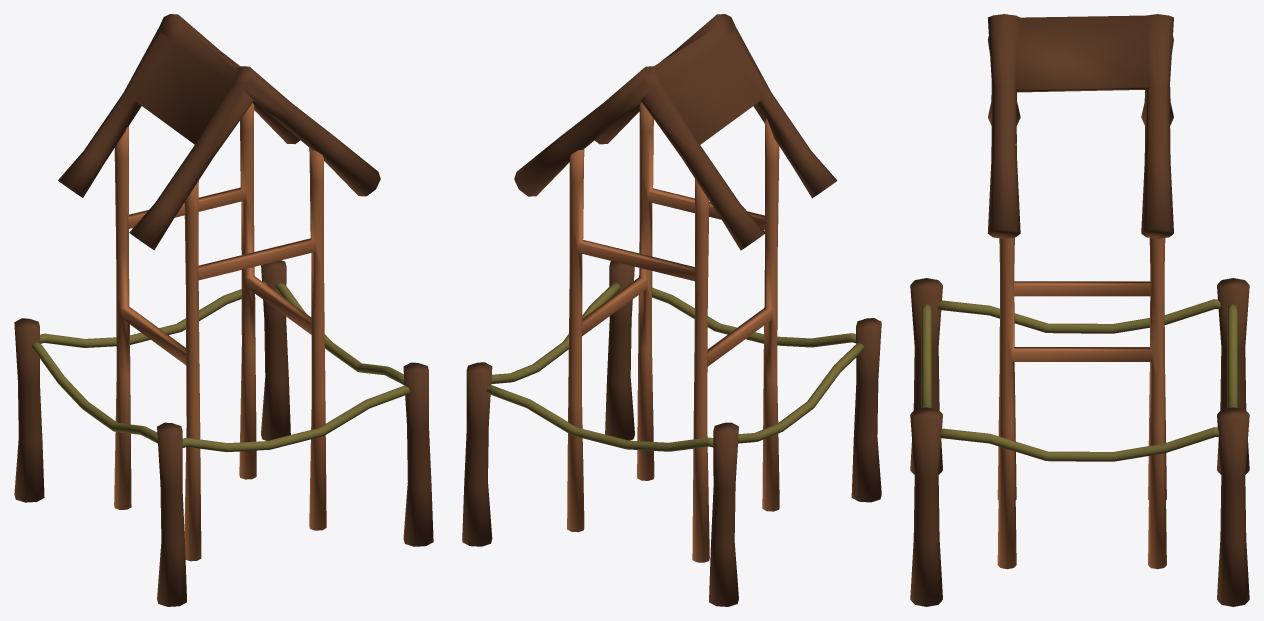
File: scaffolding.fbx
The picture shows the model from 3 angles, left to right: view 1: azimuth 30°, elevation 25°; view 2: azimuth 150°, elevation 25°; view 3: azimuth 270°, elevation 25°; orthographic projection. The views are drawn at different scales.
Visible parts, largest first — view 1: Cylinder.003; view 2: Cylinder.003; view 3: Cylinder.003.
Part boxes in pixels (box(x1,y1,x2,y2)): Cylinder.003: box(14, 14, 433, 606); Cylinder.003: box(462, 14, 881, 606); Cylinder.003: box(910, 14, 1249, 606).
Bounding box in the file's own units: 446 × 748 × 446.
